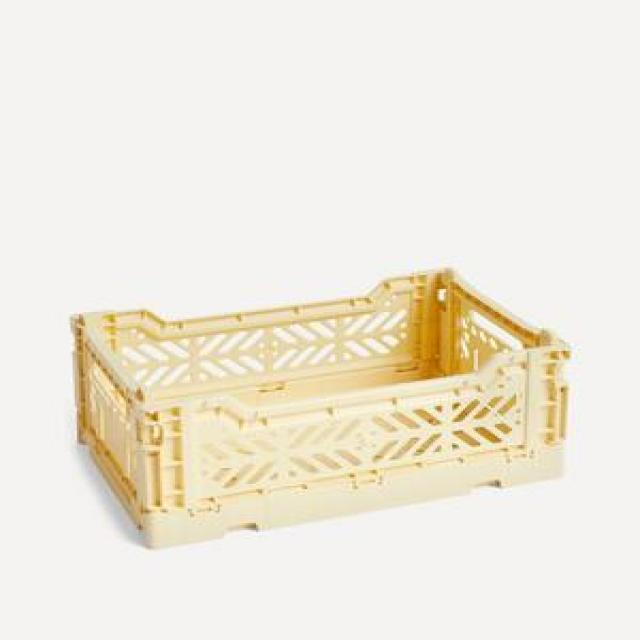basket: (59, 240, 591, 558)
